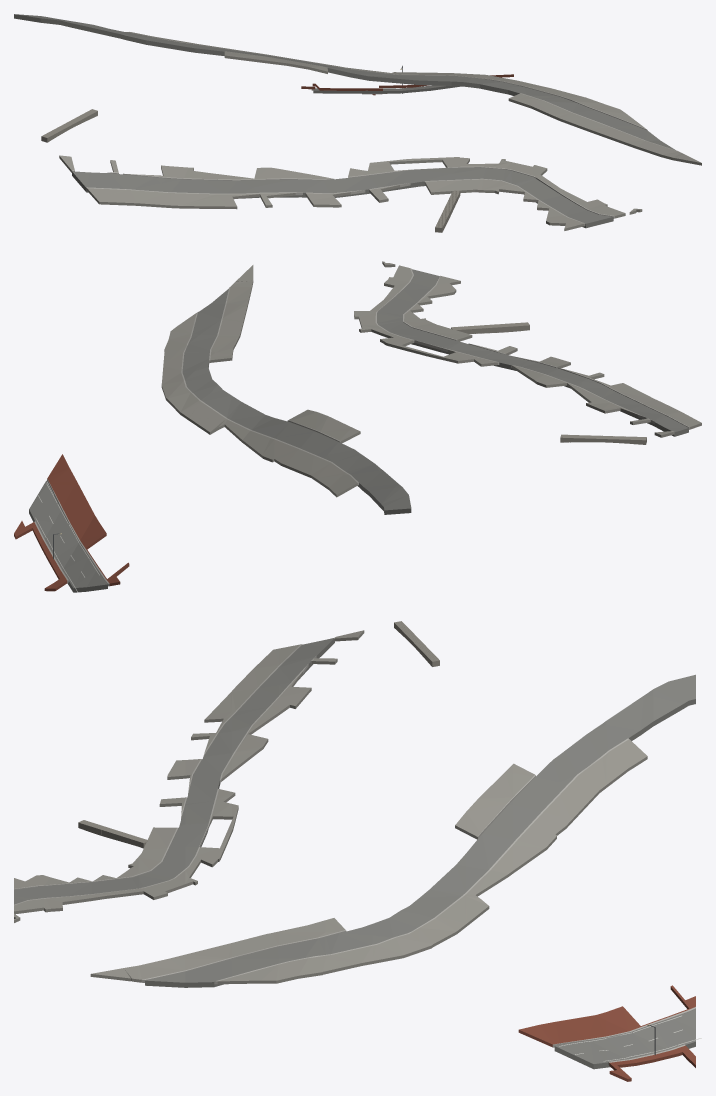
The model's file is 18-218878-118955.513eeb7d.glb.
The picture shows the model from 3 angles, top to bottom: view 1: azimuth 30°, elevation 25°; view 2: azimuth 150°, elevation 25°; view 3: azimuth 270°, elevation 25°; orthographic projection. The views are drawn at different scales.
Size of the model in its own units: 147 by 45.79 by 147.
